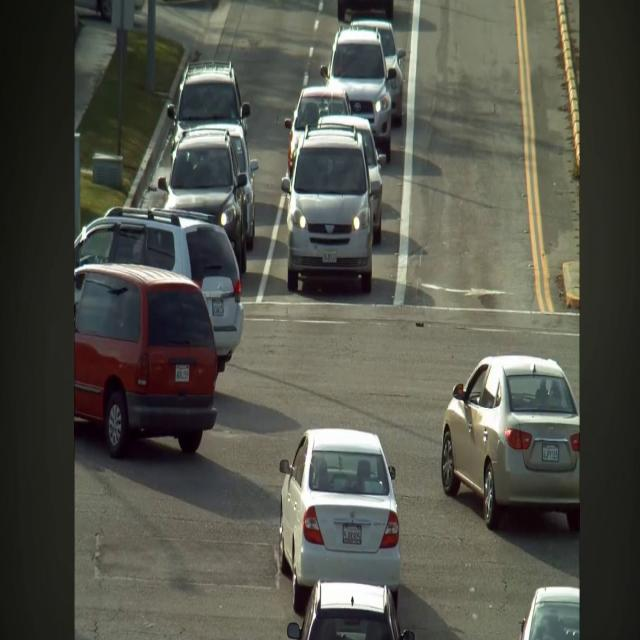car: (75, 208, 243, 373), (74, 264, 217, 457), (441, 355, 579, 531), (279, 429, 400, 614), (281, 125, 372, 293), (158, 127, 248, 274), (320, 27, 396, 161), (318, 116, 386, 244), (287, 582, 414, 639), (167, 60, 250, 147), (207, 124, 258, 251), (350, 19, 405, 126), (284, 86, 350, 175), (520, 586, 579, 639), (337, 0, 393, 22), (74, 0, 113, 21)
